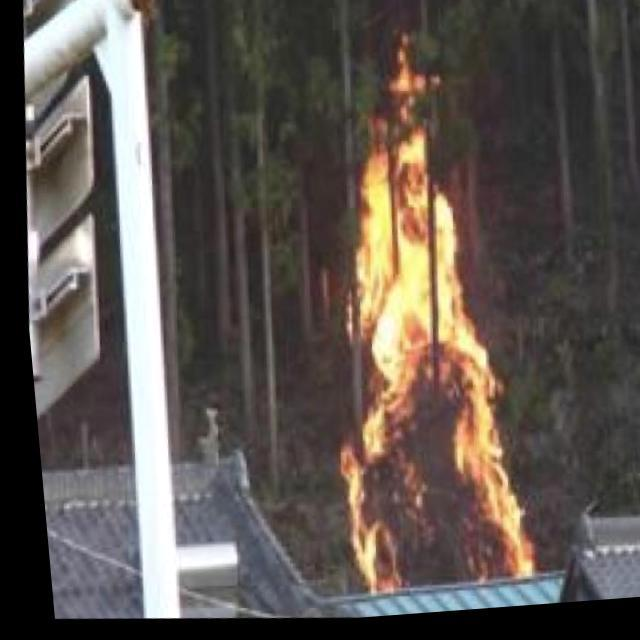fire: (305, 132, 543, 598)
